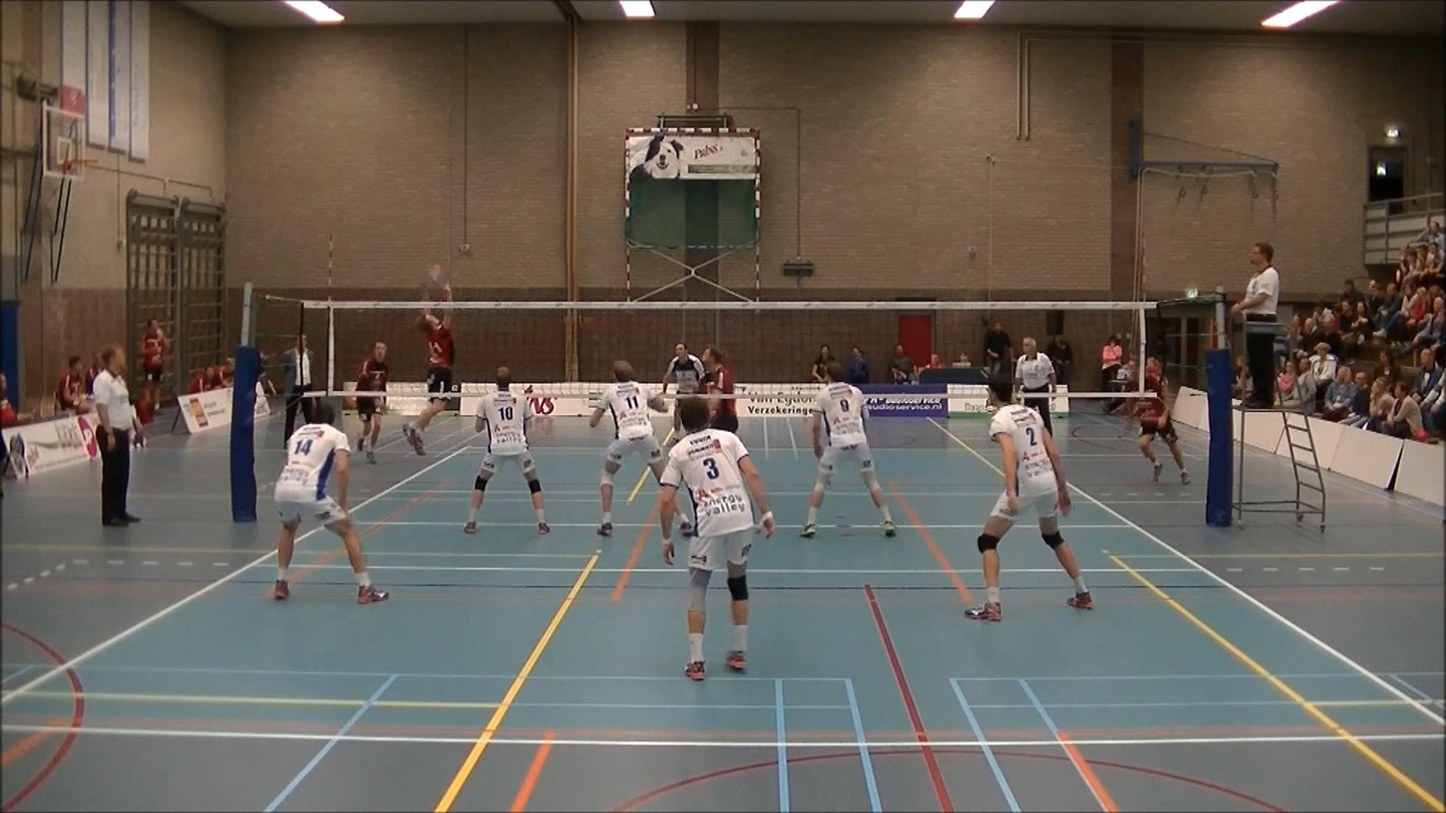alzata: (403, 271, 458, 460)
